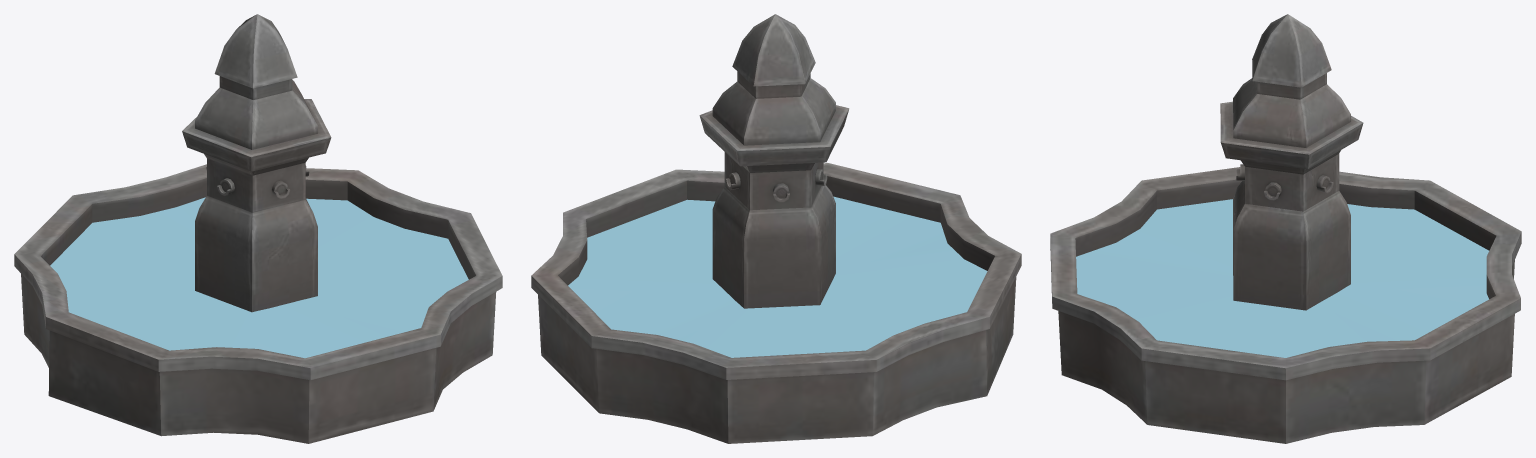
File: SM_Stylized_Fountain.glb
3 renders of one model, left to right at view 1: azimuth 30°, elevation 25°; view 2: azimuth 150°, elevation 25°; view 3: azimuth 270°, elevation 25°, orthographic.
Parts seen in each view (by area): view 1: SM_Stylized_Fountain; view 2: SM_Stylized_Fountain; view 3: SM_Stylized_Fountain.
Boxes of the visible parts, x1=… form: SM_Stylized_Fountain: x1=14, y1=14, x2=502, y2=443; SM_Stylized_Fountain: x1=531, y1=14, x2=1021, y2=443; SM_Stylized_Fountain: x1=1050, y1=14, x2=1521, y2=443.
Bounding box in the file's own units: 4.66 × 3.47 × 4.47.
2 materials, 1 textured.
